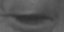LeftEyeFatigue: (2, 5, 61, 32)
